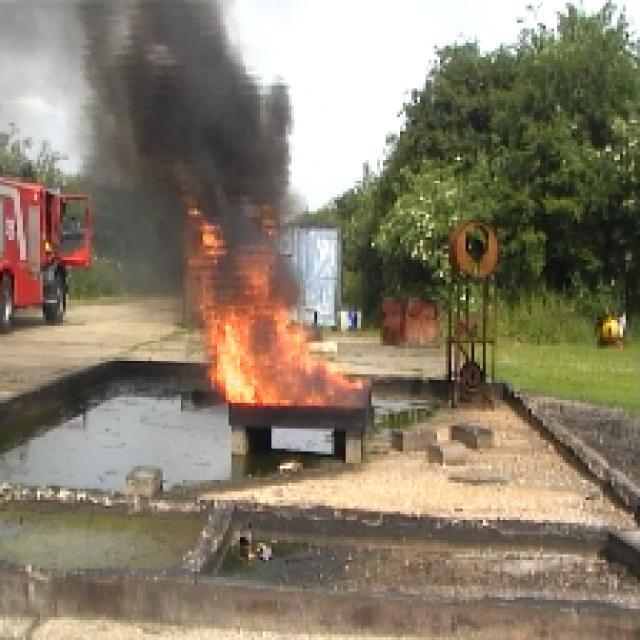Fire: (213, 310, 355, 410)
Smoke: (115, 28, 276, 188)
